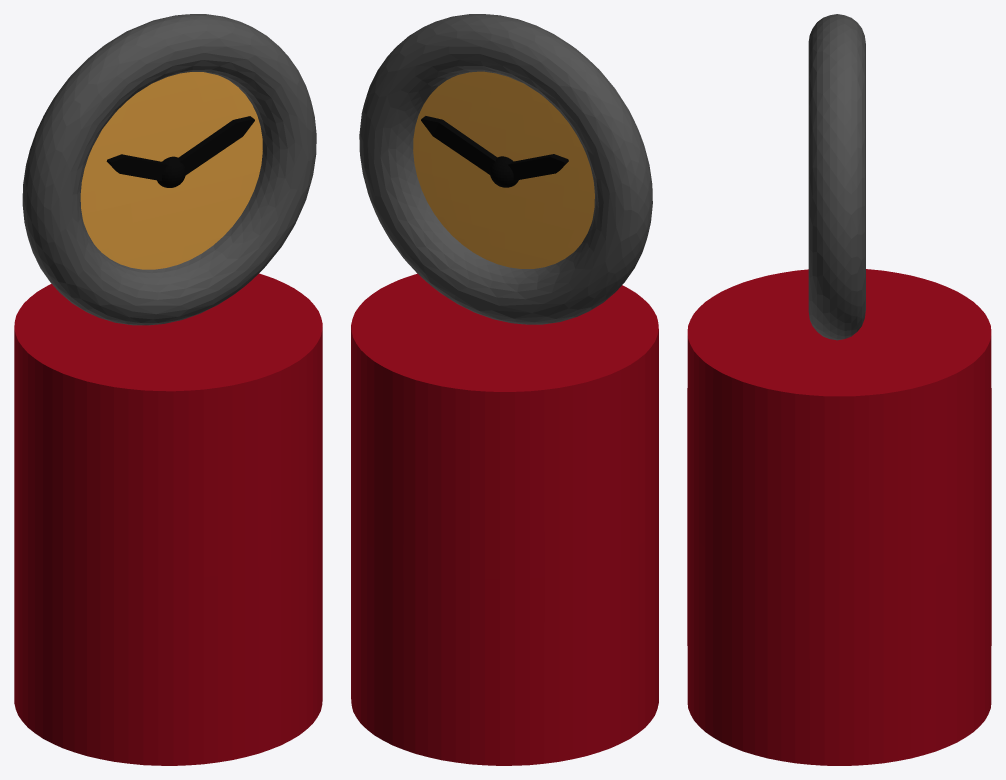
The model's file is pickuptime-3.fbx.
3 views of the same model, side by side, from view 1: azimuth 30°, elevation 25°; view 2: azimuth 150°, elevation 25°; view 3: azimuth 270°, elevation 25° (orthographic).
Parts seen in each view (by area): view 1: Cylinder, Torus, Sphere.001, Cube.001, Sphere; view 2: Cylinder, Torus, Sphere.001, Cube.001, Sphere; view 3: Cylinder, Torus.
Boxes of the visible parts, x1,y1,x2,y2 form: Cylinder: (14, 273, 322, 765); Torus: (22, 14, 316, 325); Sphere.001: (80, 72, 262, 269); Cube.001: (106, 116, 254, 187); Sphere: (157, 156, 185, 187); Cylinder: (351, 273, 658, 765); Torus: (359, 14, 652, 324); Sphere.001: (413, 71, 594, 268); Cube.001: (421, 116, 568, 187); Sphere: (489, 156, 518, 187); Cylinder: (687, 269, 991, 765); Torus: (808, 14, 865, 340).
Bounding box in the file's own units: 338 × 770 × 316.
